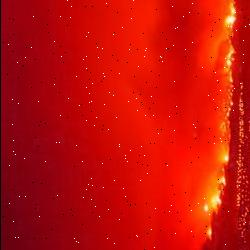fire: (188, 0, 247, 241)
